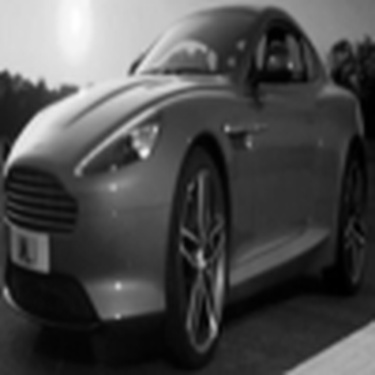car: (4, 6, 371, 372)
